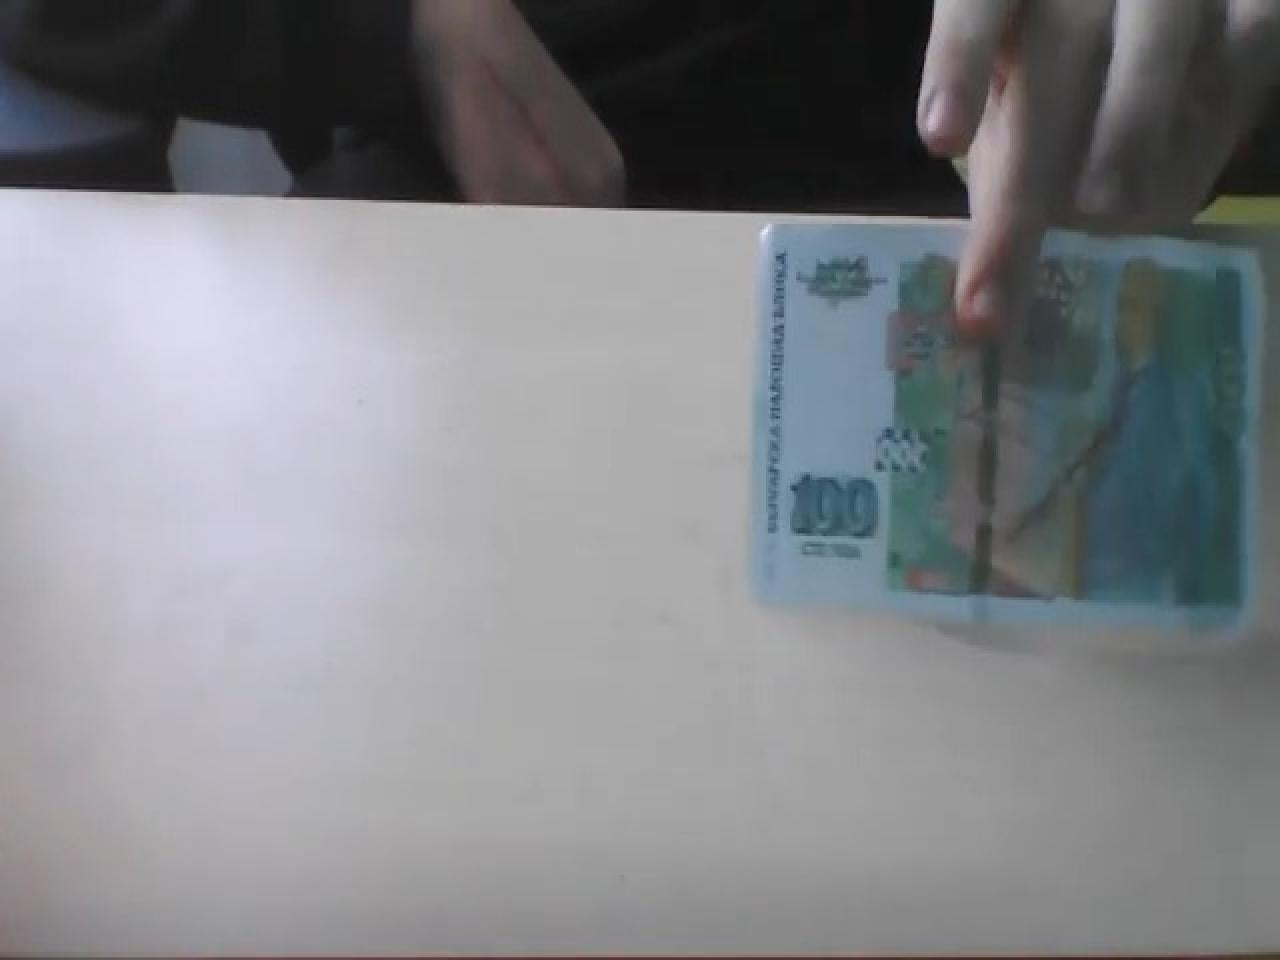100leva: (748, 216, 1266, 637), (786, 467, 878, 542)
